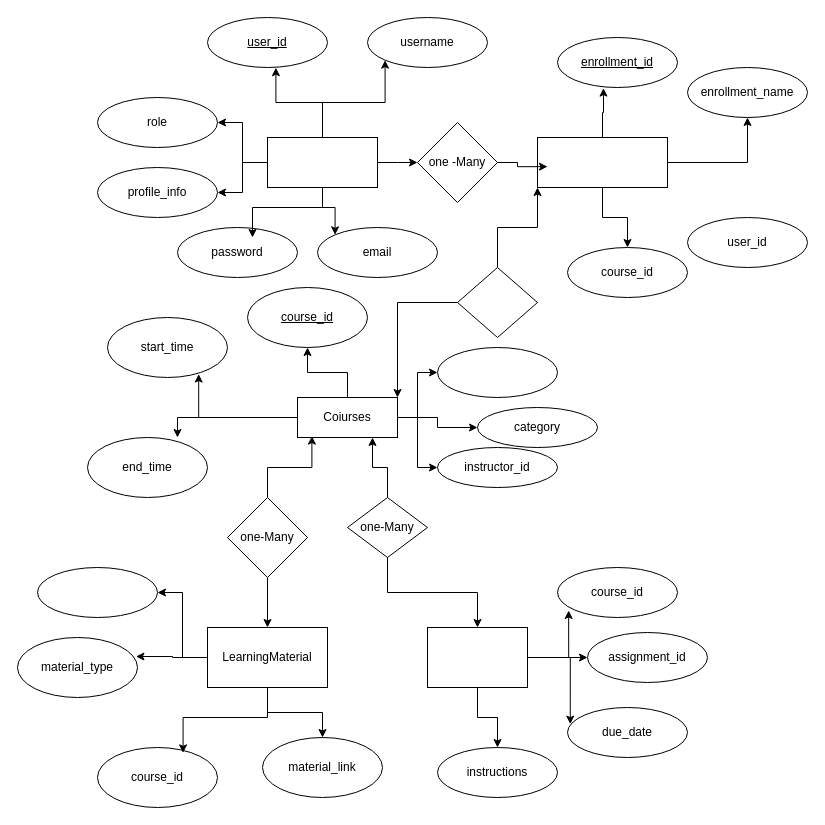
The diagram is 825 pixels wide and 825 high, and some of its shapes have lost their labels. The shapes that lost their labels are listed below. From the top down, each one's centre as x and y in pixels, then its label:
At point 322,162: "User".
At point 602,162: "Enrollment".
At point 497,302: "oneToMany".
At point 497,372: "couse_name".
At point 97,592: "material_id".
At point 477,657: "Assignment".
